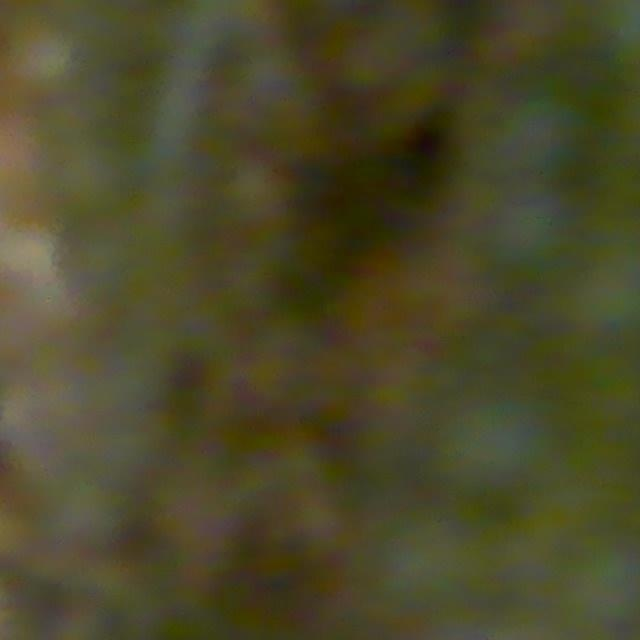SeaGrape: (392, 523, 487, 638), (442, 387, 533, 492), (496, 92, 587, 192), (578, 232, 640, 337), (492, 192, 560, 283)
